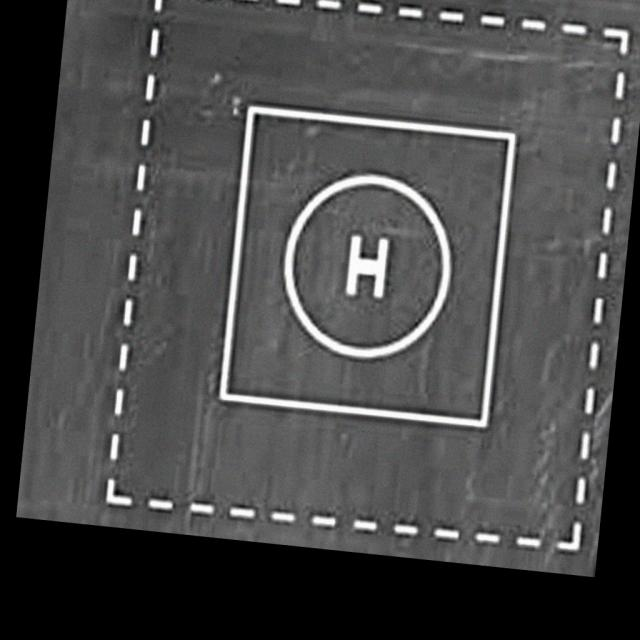helipad: (276, 170, 456, 364)
